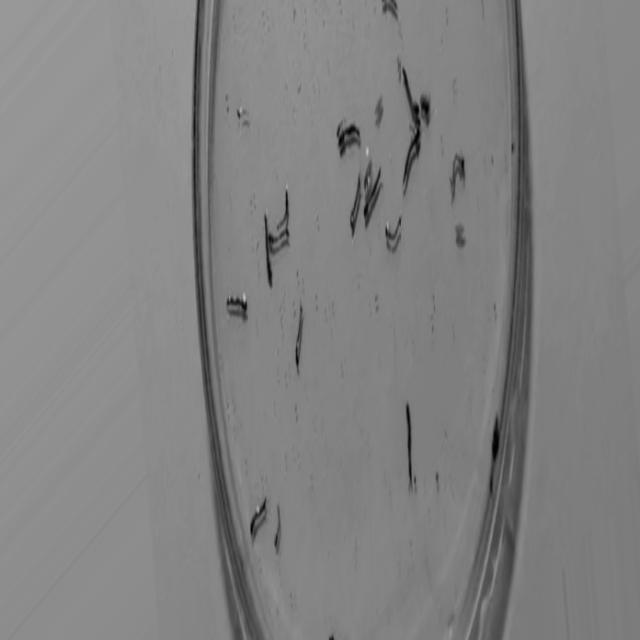larvas: (362, 169, 383, 214), (347, 176, 361, 232), (403, 70, 419, 115), (249, 498, 268, 535), (406, 404, 414, 480), (264, 214, 272, 287), (338, 120, 359, 146), (452, 153, 466, 192), (296, 303, 304, 366), (275, 192, 289, 228), (226, 291, 247, 310), (378, 0, 402, 16), (384, 218, 400, 242), (268, 229, 288, 244), (274, 507, 281, 546)
